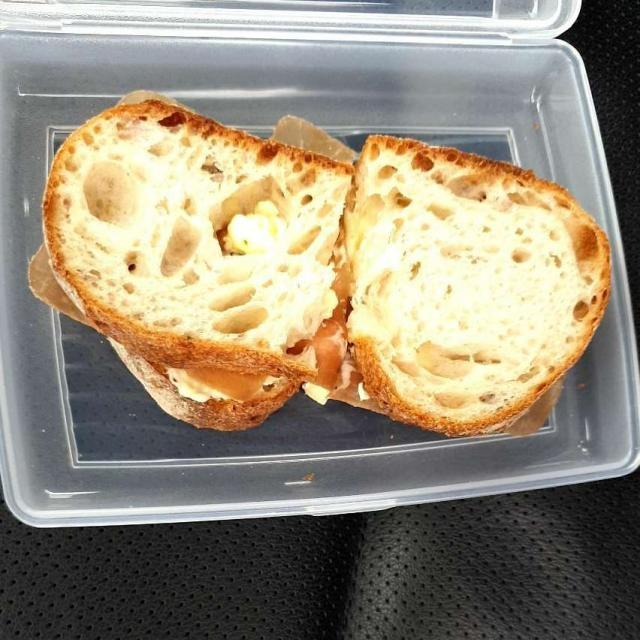bread: (48, 94, 610, 434)
